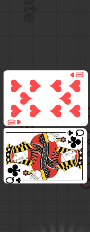10H: (7, 118, 23, 125)
